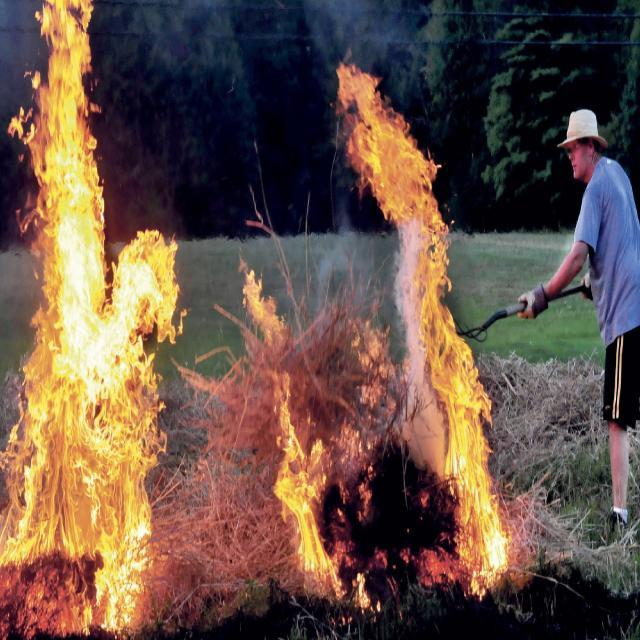Fire: (0, 1, 187, 640), (334, 59, 508, 616), (240, 252, 342, 599), (306, 1, 416, 75)
Smoke: (394, 219, 443, 481), (316, 220, 379, 338)
